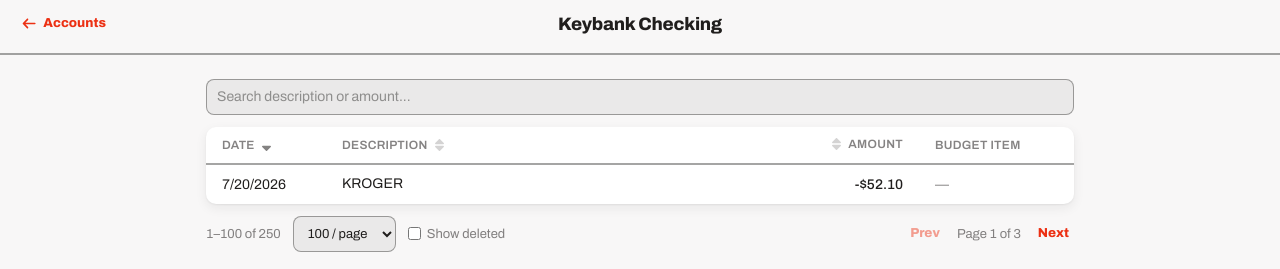
Test case: AccountTransactionsPage › re-fetches the chosen size, resets to page 1, and persists it
# Move off page 1 so the reset is observable.
Click the button "Next" at (1053, 234), box [1033,217,1074,250]
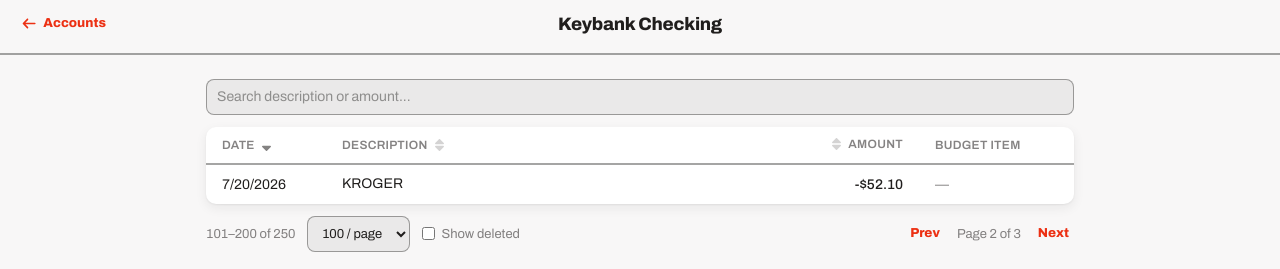
Select "10 / page" in the dropdown named "Transactions per page" at (359, 234), box [308,216,410,252]
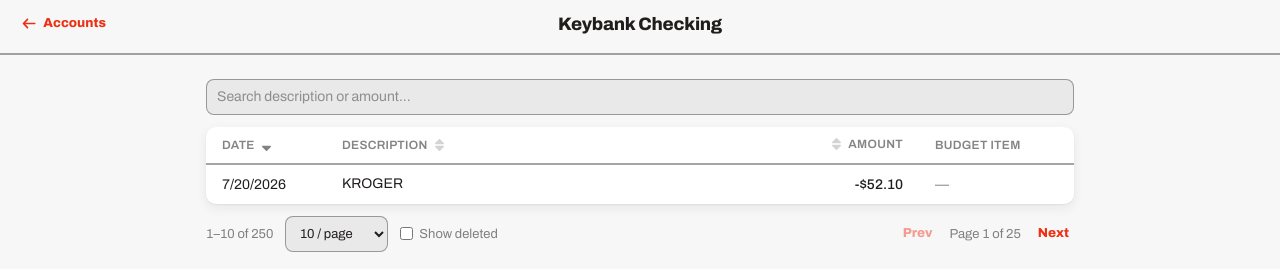
Expected: the text "Page 1 of 25" is shown, [950,224,1021,244]
Expected: the text "1–10 of 250" is shown, [206,224,273,244]
